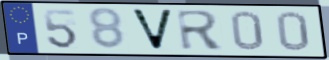0: (274, 10, 312, 53), (228, 10, 266, 53)
5: (41, 8, 80, 50)
8: (86, 6, 130, 52)
R: (174, 9, 227, 52)
V: (129, 8, 176, 52)
